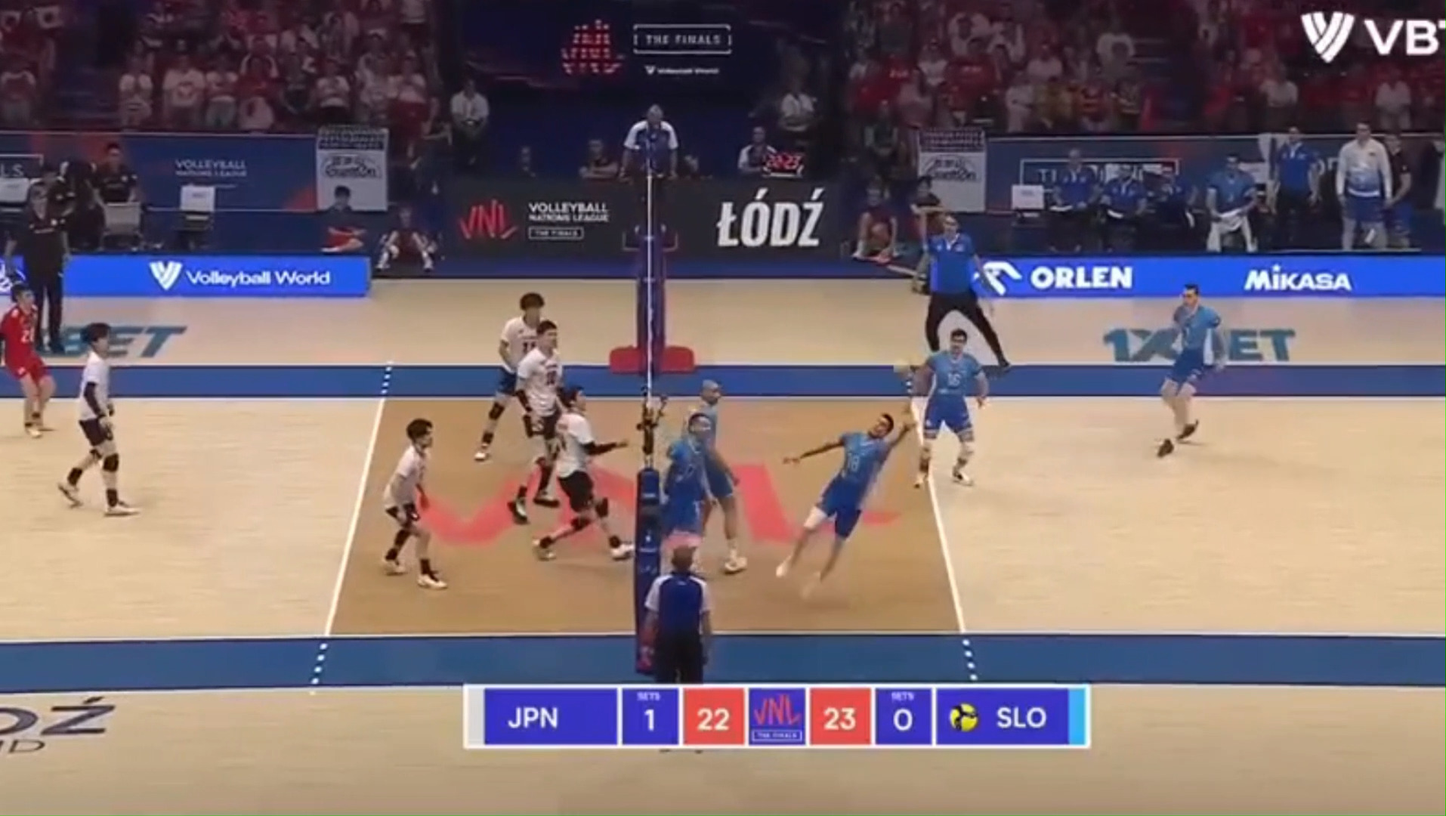ball: (892, 362, 912, 376)
player: (775, 413, 911, 585), (910, 328, 988, 487), (1157, 283, 1228, 456), (687, 379, 747, 574), (660, 419, 710, 548)
player 1: (534, 386, 632, 560), (57, 322, 137, 515), (473, 292, 545, 461), (508, 320, 563, 524), (383, 418, 447, 589), (0, 283, 54, 437)
referee: (919, 215, 1009, 372), (5, 184, 69, 352), (644, 545, 712, 683), (619, 105, 678, 252)
